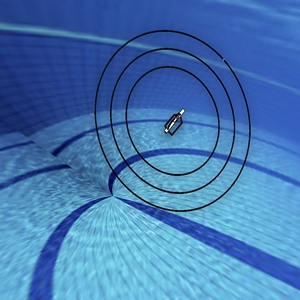circle: (79, 20, 263, 216)
submarine: (156, 100, 193, 144)
